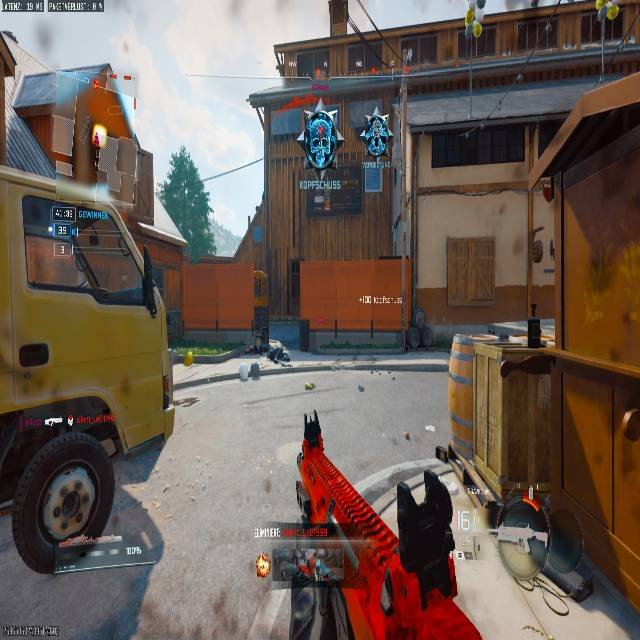player: (301, 107, 342, 177), (361, 109, 391, 160)
